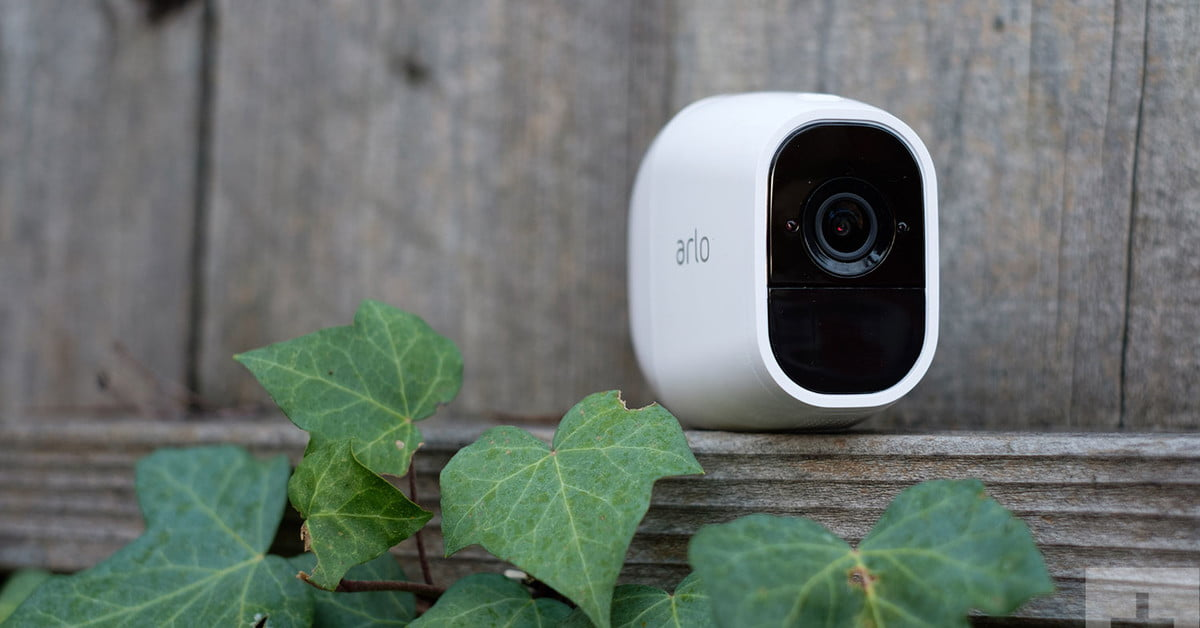Nest Cam: (600, 54, 970, 442)
